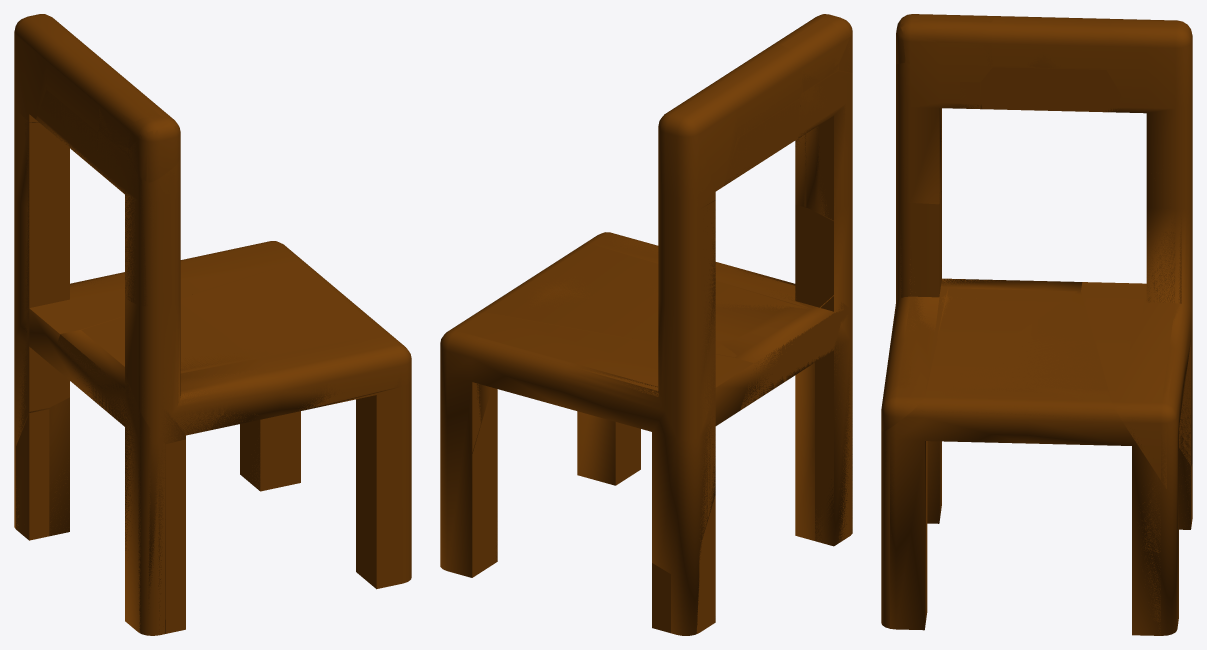
File: Chair01.fbx
3 views of the same model, side by side, from view 1: azimuth 30°, elevation 25°; view 2: azimuth 150°, elevation 25°; view 3: azimuth 270°, elevation 25° (orthographic). The views are drawn at different scales.
Parts seen in each view (by area): view 1: Chair 01, Chair 01_cell.002, Chair 01_cell.001, Chair 01_cell.004, Chair 01_cell.009, Chair 01_cell.014, Chair 01_cell, Chair 01_cell.005, Chair 01_cell.011, Chair 01_cell.008, Chair 01_cell.003, Chair 01_cell.007 (+1 smaller); view 2: Chair 01, Chair 01_cell.002, Chair 01_cell.001, Chair 01_cell.004, Chair 01_cell.009, Chair 01_cell.011, Chair 01_cell, Chair 01_cell.005, Chair 01_cell.006, Chair 01_cell.014, Chair 01_cell.003, Chair 01_cell.013; view 3: Chair 01, Chair 01_cell.002, Chair 01_cell.001, Chair 01_cell.009, Chair 01_cell.006, Chair 01_cell, Chair 01_cell.011, Chair 01_cell.012, Chair 01_cell.005, Chair 01_cell.008, Chair 01_cell.003.
Boxes of the visible parts, <box> form: Chair 01: <box>14,19,411,633</box>; Chair 01_cell.002: <box>81,261,411,633</box>; Chair 01_cell.001: <box>16,118,303,440</box>; Chair 01_cell.004: <box>57,334,165,635</box>; Chair 01_cell.009: <box>142,298,411,442</box>; Chair 01_cell.014: <box>16,409,49,540</box>; Chair 01_cell: <box>45,40,136,131</box>; Chair 01_cell.005: <box>96,131,147,306</box>; Chair 01_cell.011: <box>16,14,81,122</box>; Chair 01_cell.008: <box>148,168,180,305</box>; Chair 01_cell.003: <box>99,87,159,153</box>; Chair 01_cell.007: <box>128,126,180,182</box>; Chair 01: <box>440,14,852,635</box>; Chair 01_cell.002: <box>472,243,807,577</box>; Chair 01_cell.001: <box>447,200,753,541</box>; Chair 01_cell.004: <box>740,296,852,543</box>; Chair 01_cell.009: <box>586,204,833,308</box>; Chair 01_cell.011: <box>663,88,736,210</box>; Chair 01_cell: <box>704,45,801,137</box>; Chair 01_cell.005: <box>799,71,852,220</box>; Chair 01_cell.006: <box>724,99,799,185</box>; Chair 01_cell.014: <box>696,495,715,633</box>; Chair 01_cell.003: <box>781,18,840,92</box>; Chair 01_cell.013: <box>652,563,670,633</box>; Chair 01: <box>881,14,1192,635</box>; Chair 01_cell.002: <box>881,288,1160,635</box>; Chair 01_cell.001: <box>1081,164,1190,488</box>; Chair 01_cell.009: <box>881,192,947,431</box>; Chair 01_cell.006: <box>980,67,1124,112</box>; Chair 01_cell: <box>992,16,1112,68</box>; Chair 01_cell.011: <box>1109,19,1182,46</box>; Chair 01_cell.012: <box>904,21,992,67</box>; Chair 01_cell.005: <box>941,82,981,193</box>; Chair 01_cell.008: <box>896,73,939,201</box>; Chair 01_cell.003: <box>918,14,995,22</box>.
Bounding box in the file's own units: 101 × 177 × 101.
